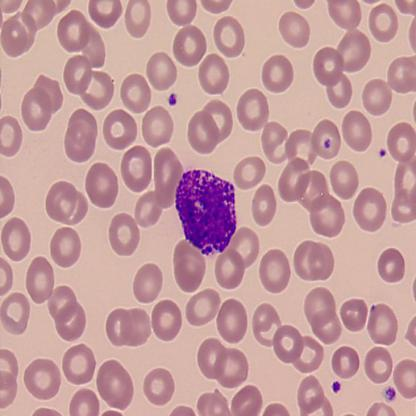Basophil: (173, 165, 239, 259)
